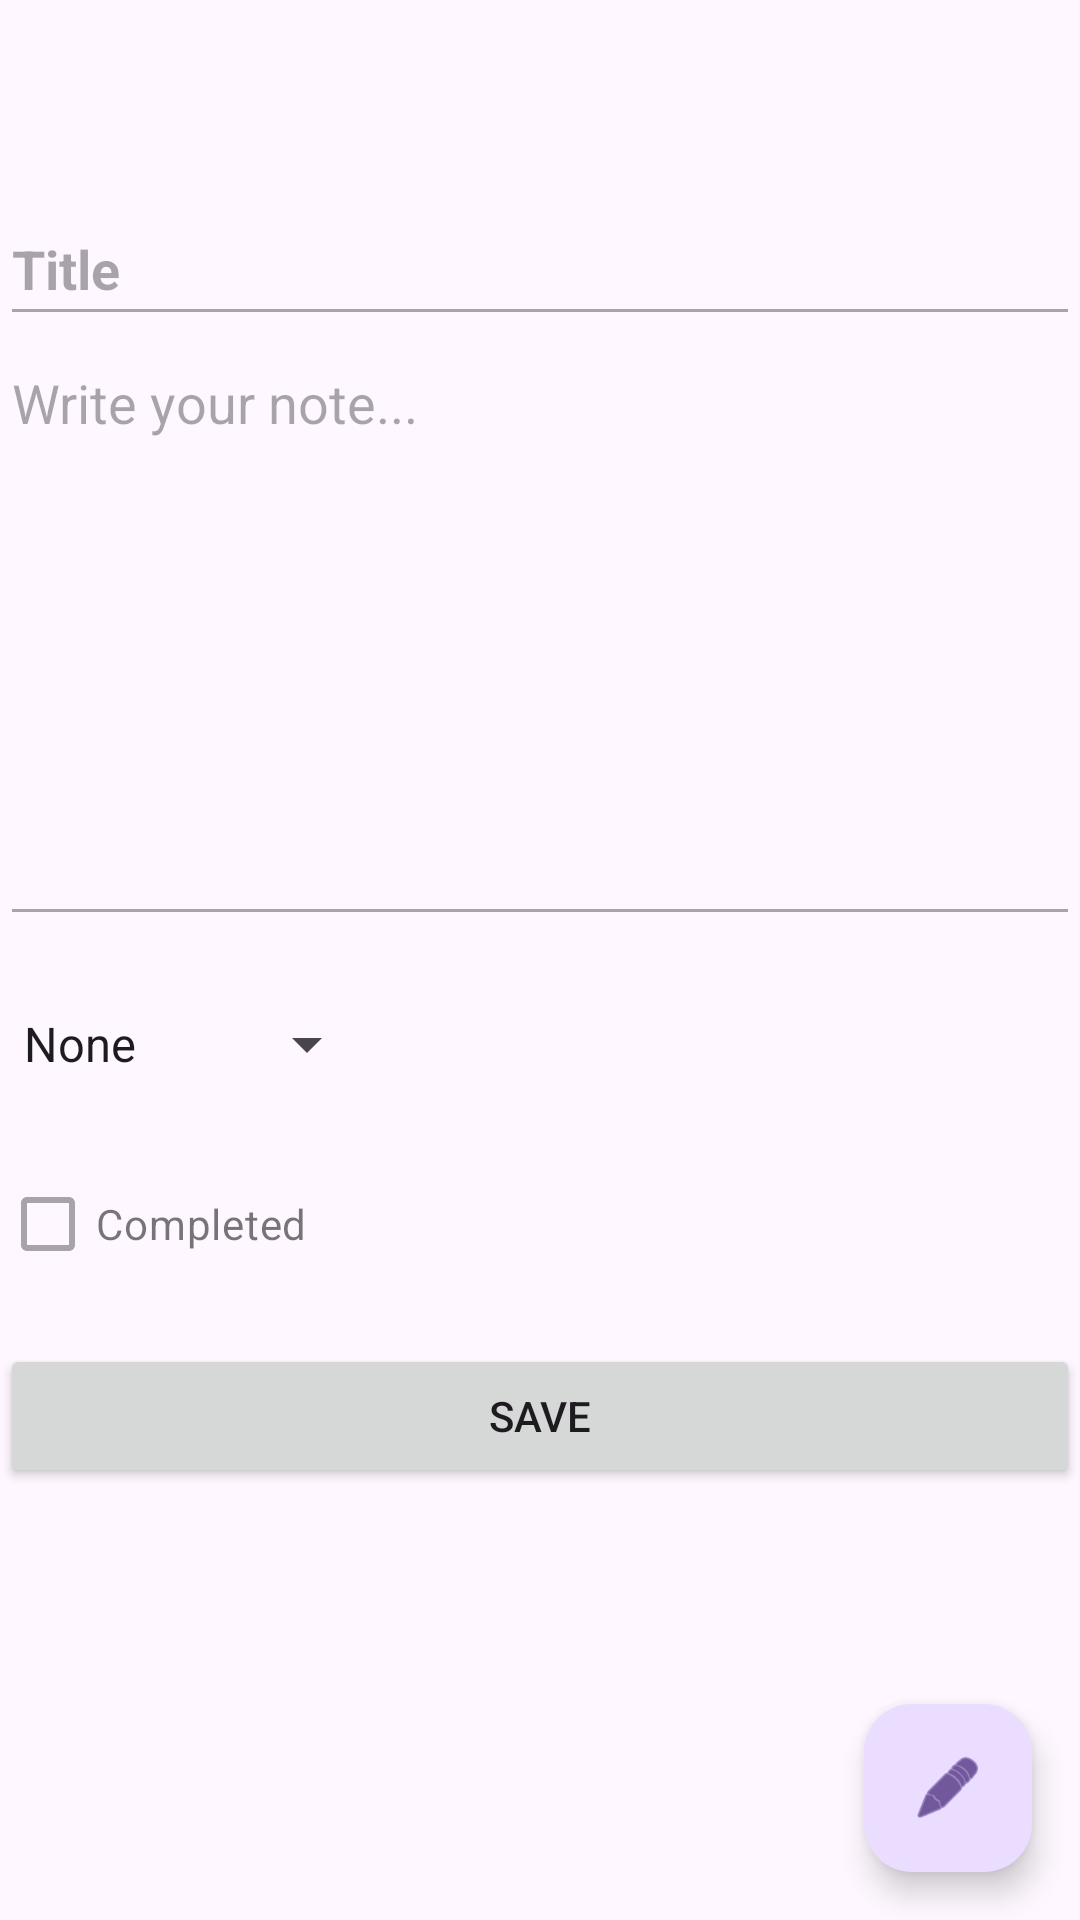

Where icons sit on this 1080×1920 app screen, as bbox(x1, y1, x2, y2):
Edit Note: bbox(864, 1704, 1032, 1872)
